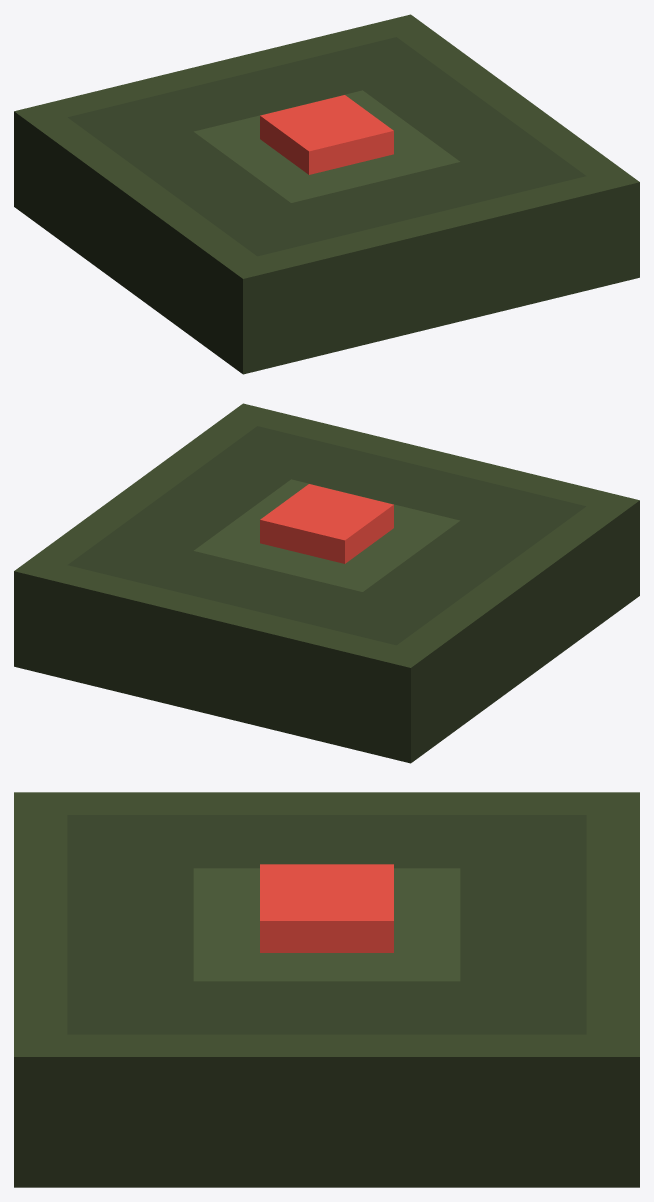
The model's file is Item_ExplosiveMine.fbx.
3 views of the same model, one above another, from view 1: azimuth 30°, elevation 25°; view 2: azimuth 150°, elevation 25°; view 3: azimuth 270°, elevation 25° (orthographic). The views are drawn at different scales.
Visible parts, largest first — view 1: Item_ExplosiveMine; view 2: Item_ExplosiveMine; view 3: Item_ExplosiveMine.
Boxes of the visible parts, x1,y1,x2,y2 form: Item_ExplosiveMine: (14, 14, 639, 374); Item_ExplosiveMine: (14, 403, 639, 763); Item_ExplosiveMine: (14, 792, 639, 1187).
Bounding box in the file's own units: 133 × 38.12 × 133.
